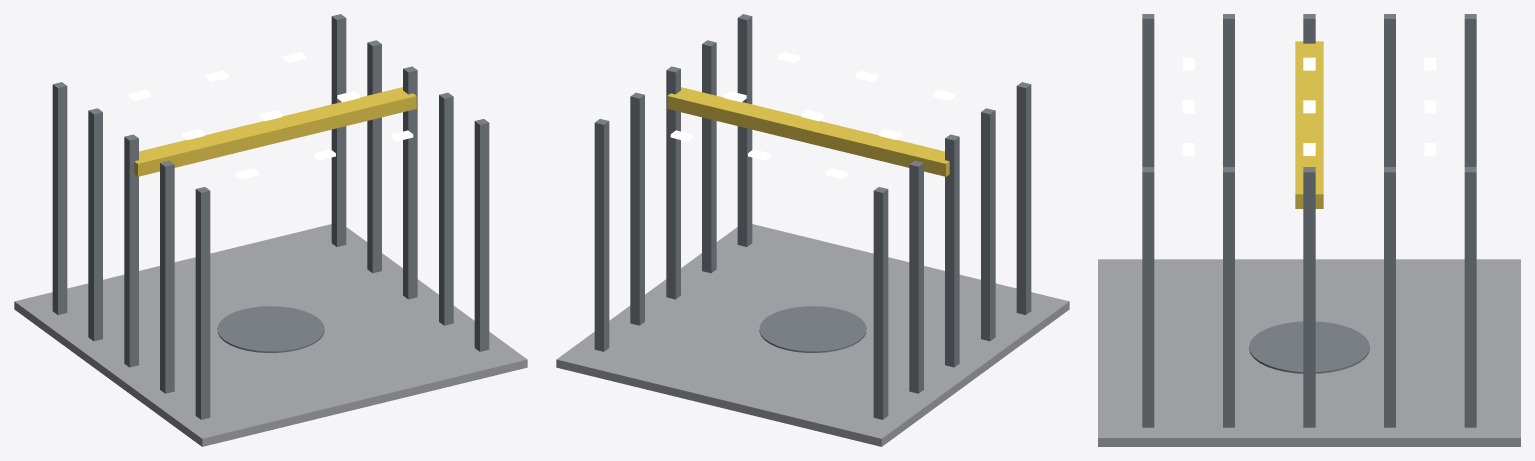
The model's file is hangar_interior.glb.
3 views of the same model, side by side, from view 1: azimuth 30°, elevation 25°; view 2: azimuth 150°, elevation 25°; view 3: azimuth 270°, elevation 25° (orthographic). The views are drawn at different scales.
Parts seen in each view (by area): view 1: Hangar_Floor, Overhead_Gantry_Crane, Assembly_Turntable, Cube, Cube.005, Cube.004, Cube.006, Cube.001, Cube.003, Cube.002, Cube.009, Cube.007 (+1 smaller); view 2: Hangar_Floor, Overhead_Gantry_Crane, Assembly_Turntable, Cube.004, Cube.009, Cube, Cube.008, Cube.001, Cube.003, Cube.002, Cube.005, Cube.007 (+1 smaller); view 3: Hangar_Floor, Assembly_Turntable, Overhead_Gantry_Crane, Cube.005, Cube.007, Cube.009, Cube.006, Cube.008, Cube, Cube.004, Cube.001, Cube.003.
Part boxes in pixels (box(x1,y1,x2,y2)): Hangar_Floor: box(14, 224, 527, 446); Overhead_Gantry_Crane: box(134, 87, 416, 176); Assembly_Turntable: box(217, 306, 324, 352); Cube: box(195, 187, 210, 419); Cube.005: box(474, 119, 489, 351); Cube.004: box(52, 82, 67, 314); Cube.006: box(439, 92, 453, 325); Cube.001: box(160, 160, 174, 393); Cube.003: box(88, 108, 102, 341); Cube.002: box(124, 134, 138, 367); Cube.009: box(331, 14, 346, 246); Cube.007: box(403, 66, 417, 299); Hangar_Floor: box(556, 224, 1069, 446); Overhead_Gantry_Crane: box(667, 87, 949, 176); Assembly_Turntable: box(759, 306, 866, 352); Cube.004: box(873, 187, 888, 419); Cube.009: box(594, 119, 609, 351); Cube: box(1016, 82, 1031, 314); Cube.008: box(630, 92, 644, 325); Cube.001: box(981, 108, 995, 341); Cube.003: box(909, 160, 923, 393); Cube.002: box(945, 134, 959, 367); Cube.005: box(737, 14, 752, 246); Cube.007: box(666, 66, 680, 299); Hangar_Floor: box(1098, 259, 1520, 446); Assembly_Turntable: box(1249, 321, 1369, 373); Overhead_Gantry_Crane: box(1295, 41, 1323, 208); Cube.005: box(1142, 167, 1154, 427); Cube.007: box(1303, 167, 1315, 427); Cube.009: box(1464, 167, 1476, 427); Cube.006: box(1223, 167, 1234, 427); Cube.008: box(1384, 167, 1395, 427); Cube: box(1142, 14, 1154, 166); Cube.004: box(1464, 14, 1476, 166); Cube.001: box(1223, 14, 1234, 166); Cube.003: box(1384, 14, 1395, 166).
Size of the model in its own units: 42 by 29 by 42.
